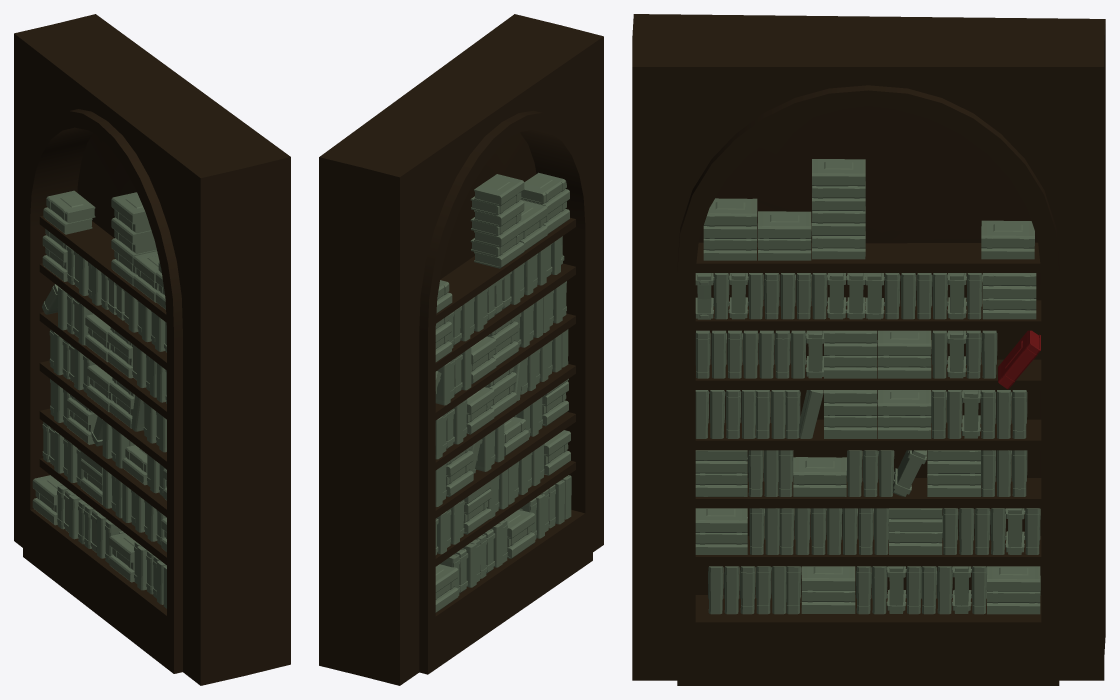
The model's file is low_library.005.fbx.
The picture shows the model from 3 angles, left to right: view 1: azimuth 30°, elevation 25°; view 2: azimuth 150°, elevation 25°; view 3: azimuth 270°, elevation 25°; orthographic projection. The views are drawn at different scales.
Visible parts, largest first — view 1: low_library.005; view 2: low_library.005; view 3: low_library.005.
Part boxes in pixels (x1,y1,x2,y2): low_library.005: (14,14,290,685); low_library.005: (319,14,603,685); low_library.005: (632,14,1105,685).
Bounding box in the file's own units: 122 × 522 × 365.
